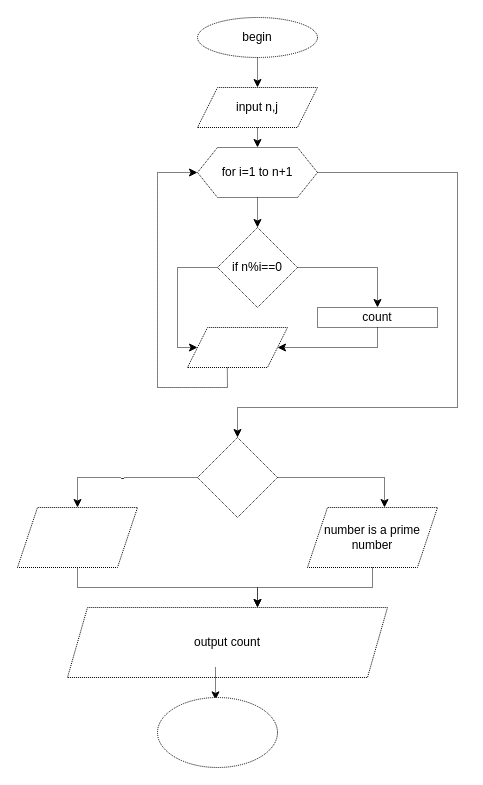
Some shapes in this 483 by 785 pixel diagram are drawn without their labels. The shapes that lost their labels are listed below. From the top down, each one's centre as x and y in pixels, then its label:
(x=237, y=347): output i
(x=237, y=477): if count==2
(x=77, y=537): number is not a prime number
(x=217, y=732): end
